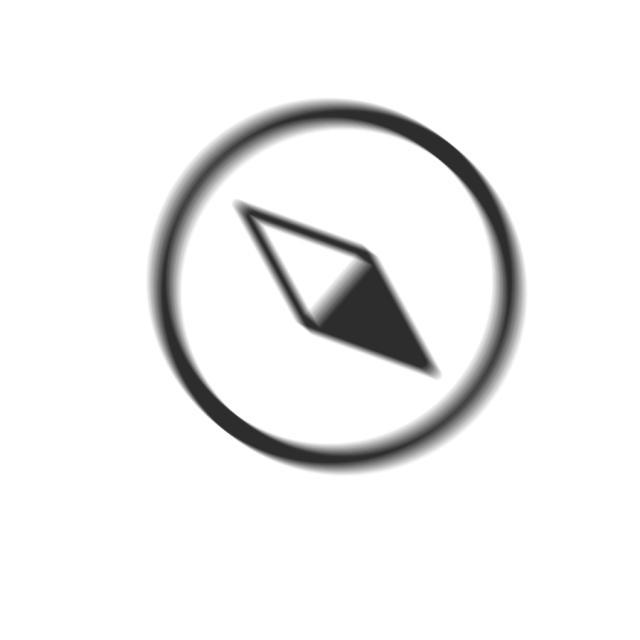compass: (142, 96, 533, 483)
